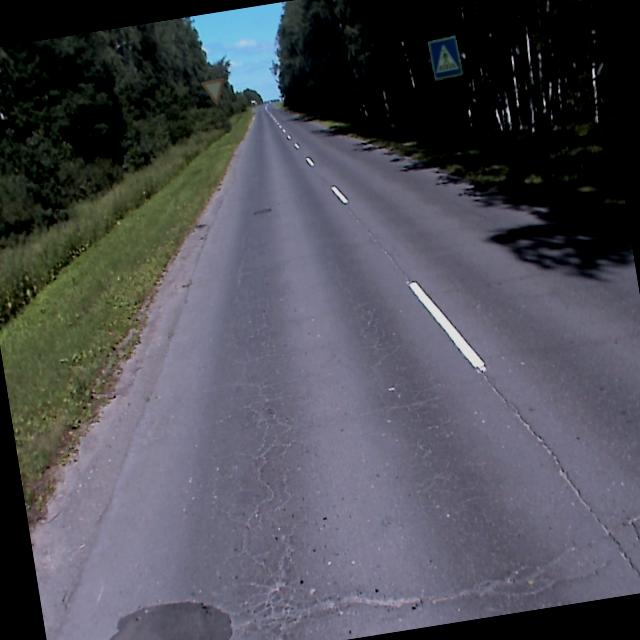road: (62, 100, 640, 640)
